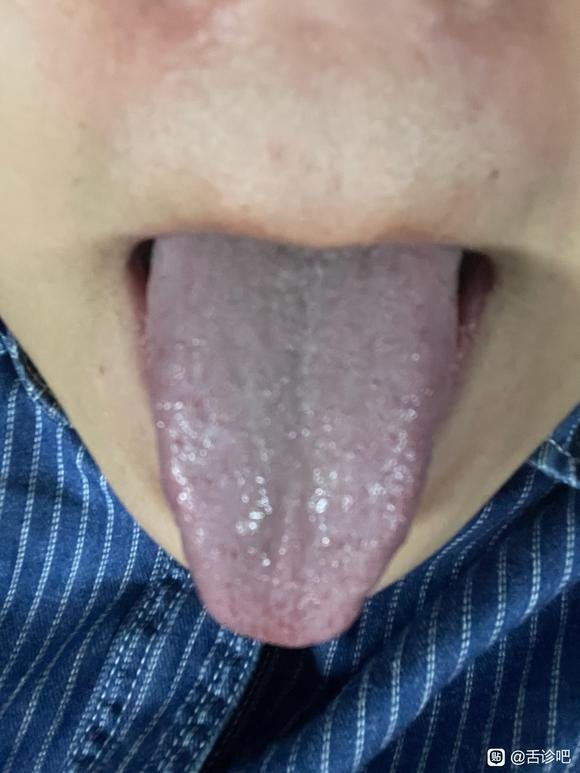baitaishe: (141, 231, 460, 649)
shoushe: (141, 231, 460, 649)
zishe: (141, 231, 460, 649)
